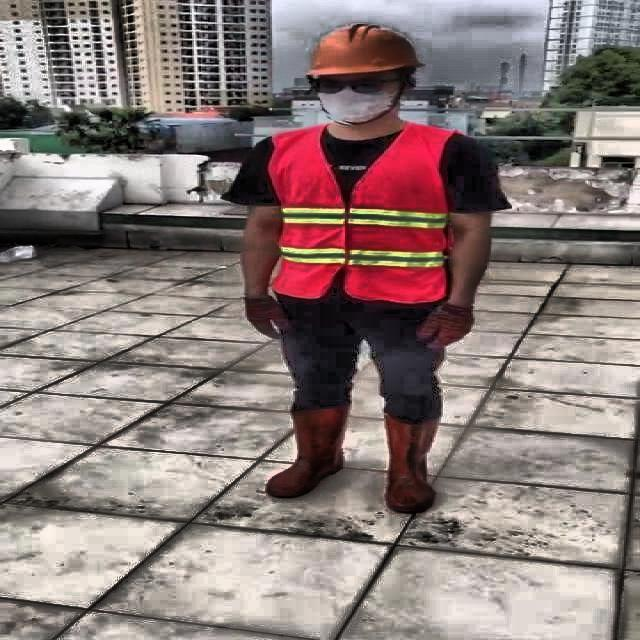safety_helmet: (300, 21, 418, 76)
safety_jacket: (268, 127, 452, 304)
